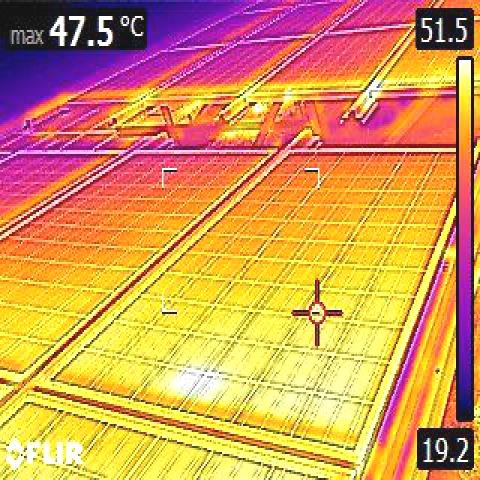fault: (179, 368, 216, 398)
